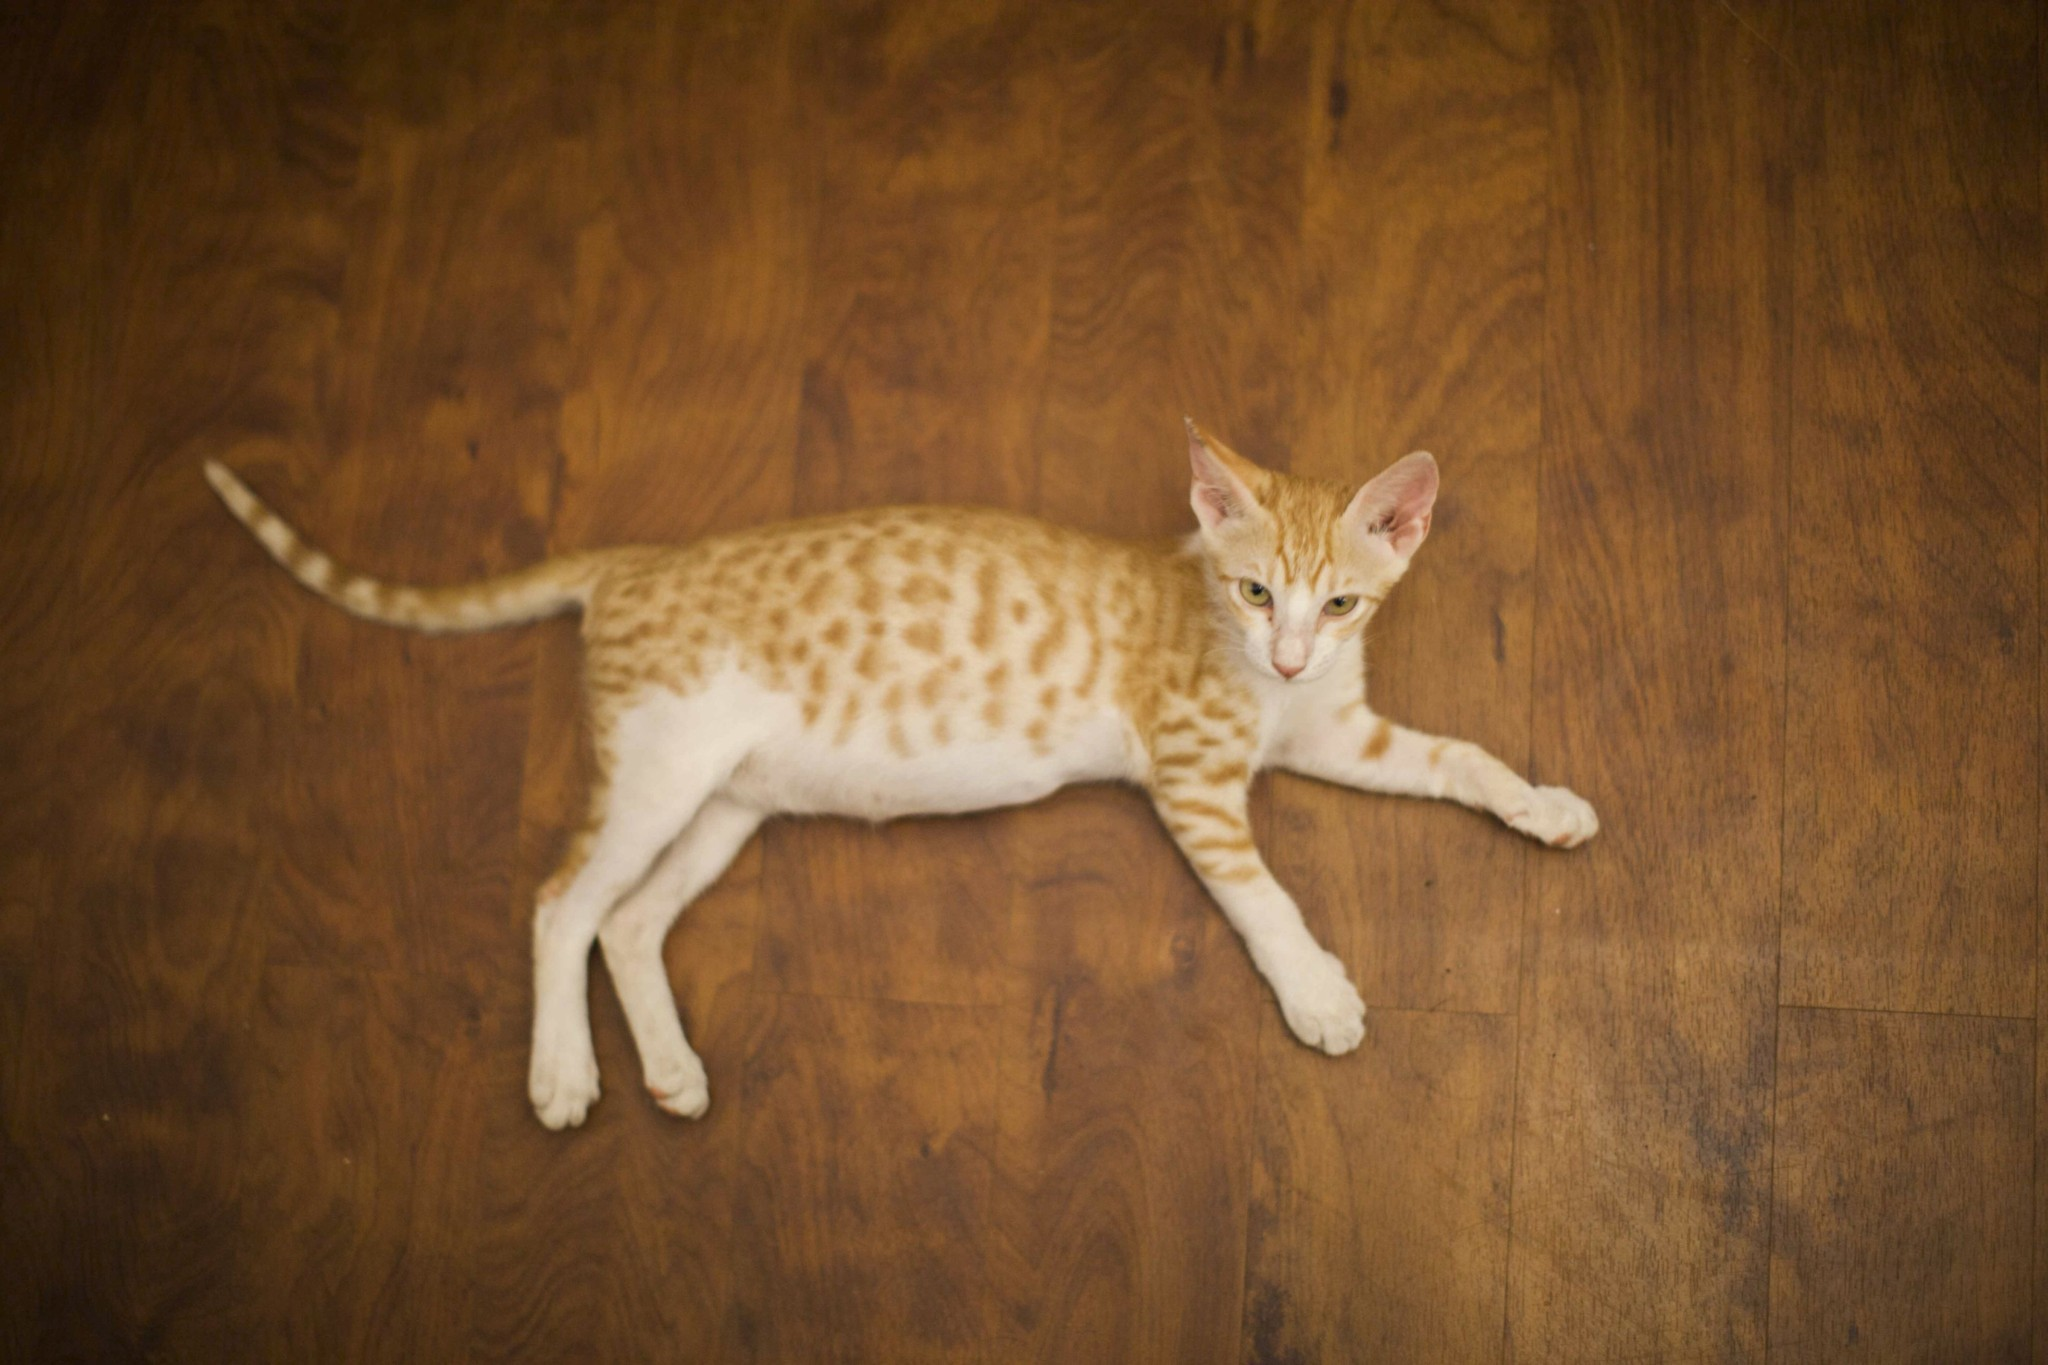cat: (184, 411, 1616, 1140)
